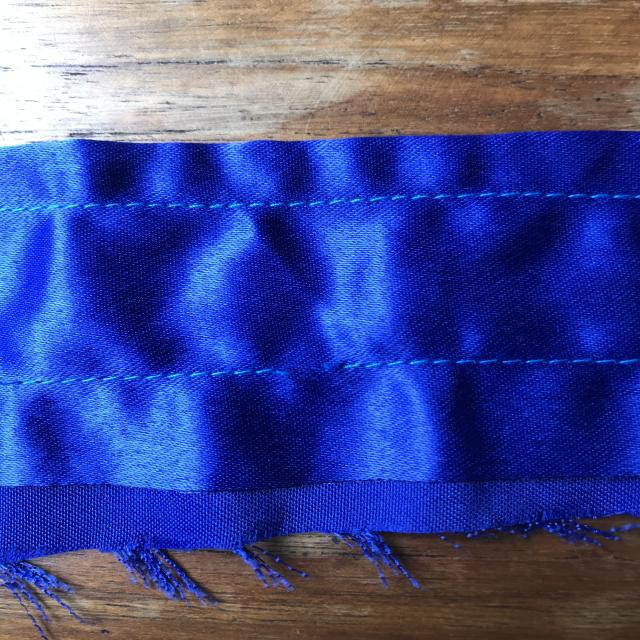broken: (245, 352, 395, 391)
good: (221, 182, 395, 226)
